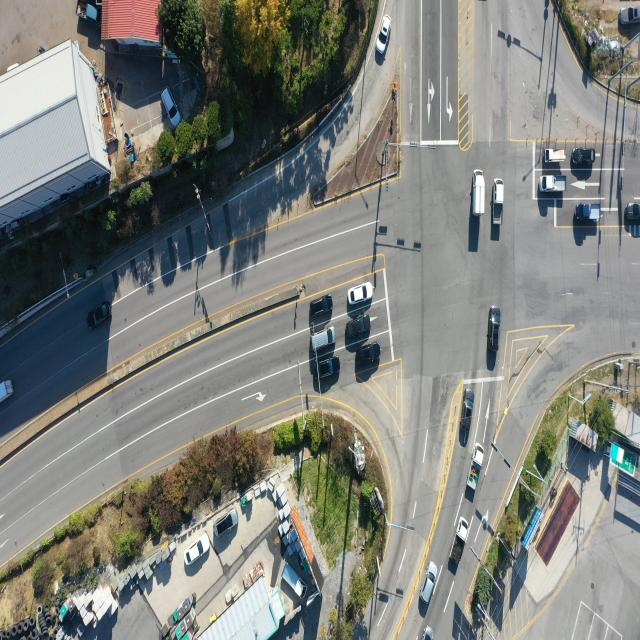car: (184, 536, 210, 568), (160, 84, 179, 126), (314, 354, 342, 379), (422, 561, 438, 604), (460, 390, 472, 447), (309, 329, 336, 353), (86, 300, 109, 328), (214, 511, 237, 539), (345, 318, 371, 342), (376, 15, 391, 55), (308, 296, 334, 319), (356, 342, 382, 365), (488, 304, 500, 351), (348, 283, 373, 305), (571, 148, 594, 166), (620, 6, 640, 24), (625, 203, 640, 222), (422, 625, 434, 640)
small_truck: (446, 516, 467, 578), (469, 444, 487, 502), (280, 565, 307, 600), (472, 170, 486, 219), (491, 178, 504, 228), (75, 0, 101, 22), (540, 175, 567, 194), (577, 203, 602, 222), (0, 379, 14, 410), (545, 148, 567, 163)
